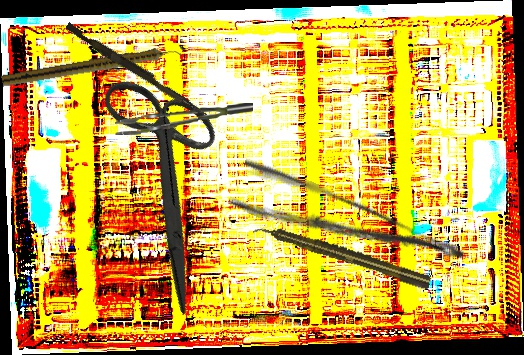Dressing Forceps: (226, 154, 469, 298)
Handpiece: (252, 218, 433, 292), (0, 43, 184, 91)
Iris Scissors: (39, 52, 295, 315)
Pusher: (62, 22, 212, 118)
Tissue Forceps: (114, 102, 254, 136)
